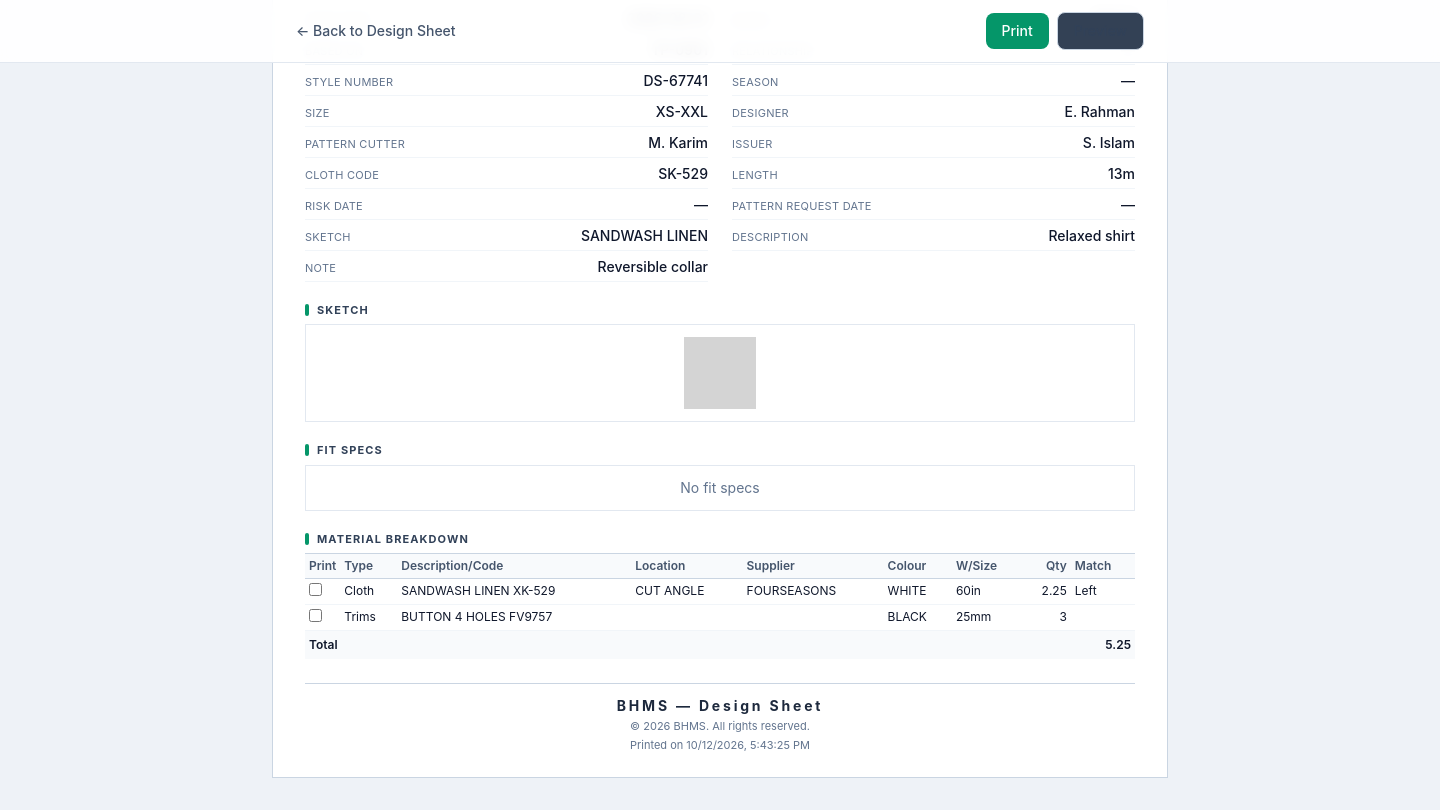
DesignSheetPrintPage › prints only ticked material items when any box is ticked
(page scrolled)
What coordinates should you click on to do the following:
click the checkbox with test id "print-item-tick-bi-1"
I would click on:
 (316, 590)
Its box is x1=309 y1=583 x2=322 y2=596.
(page scrolled)
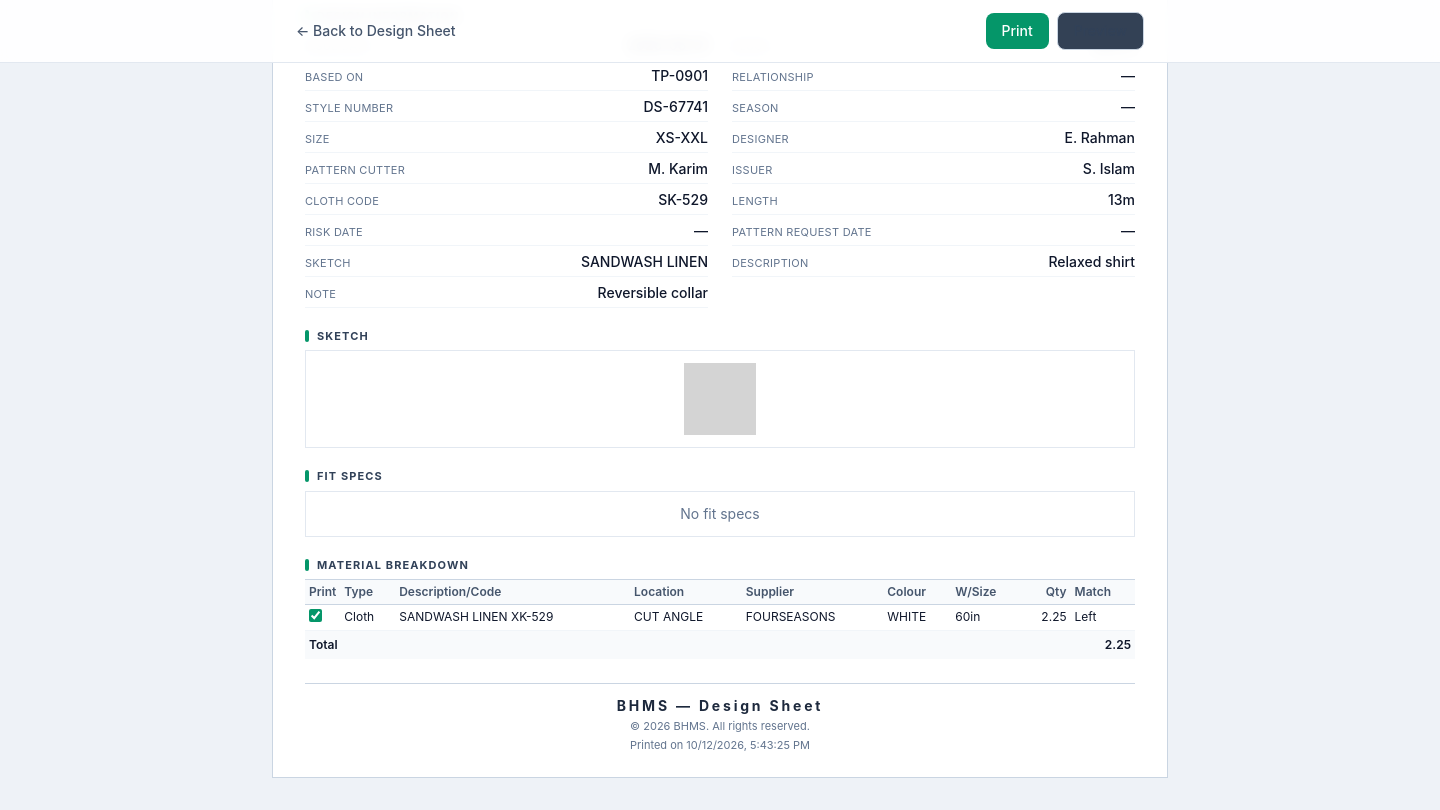
Expected: the table with test id "print-material-grid" shows "SANDWASH LINEN XK-529", x1=399 y1=609 x2=553 y2=624
Now the table with test id "print-material-grid" no longer shows "BUTTON 4 HOLES FV9757", box x1=305 y1=579 x2=1135 y2=659
Now the cell with test id "material-total" reads "2.25", box x1=1105 y1=637 x2=1131 y2=652
